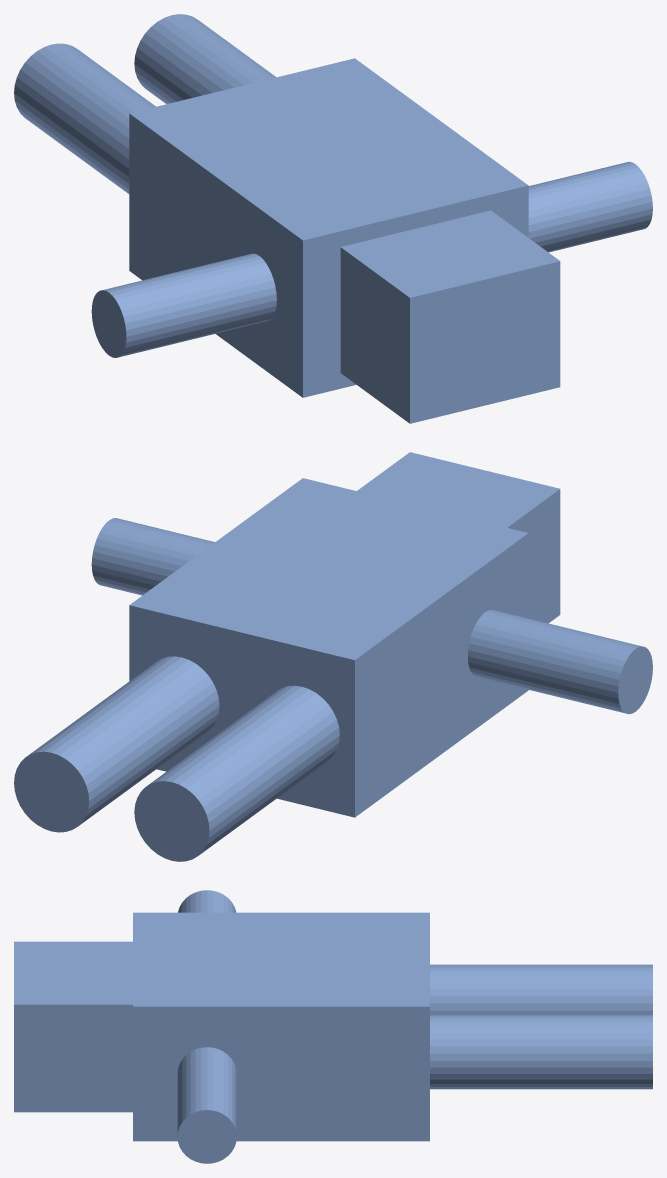
3 views of the same model, one above another, from view 1: azimuth 30°, elevation 25°; view 2: azimuth 150°, elevation 25°; view 3: azimuth 270°, elevation 25° (orthographic). The views are drawn at different scales.
Visible parts, largest first — view 1: world; view 2: world; view 3: world.
Boxes of the visible parts, left/top/right/bottom form: world: left=14, top=14, right=652, bottom=423; world: left=14, top=452, right=652, bottom=861; world: left=14, top=890, right=652, bottom=1163.
Size of the model in its own units: 3.5 by 1 by 4.3.
